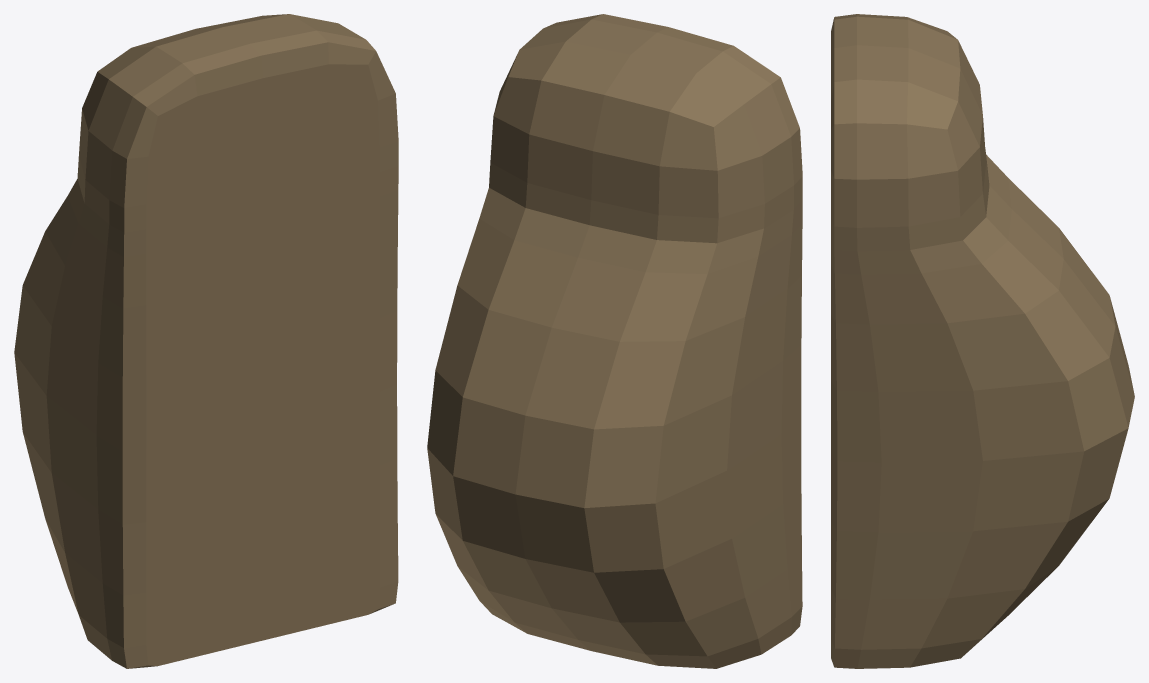
File: CarPartBody.fbx
3 renders of one model, left to right at view 1: azimuth 30°, elevation 25°; view 2: azimuth 150°, elevation 25°; view 3: azimuth 270°, elevation 25°, orthographic. The views are drawn at different scales.
Parts seen in each view (by area): view 1: Cube; view 2: Cube; view 3: Cube.
Part boxes in pixels (x1,y1,x2,y2): Cube: (14, 14, 398, 668); Cube: (427, 14, 802, 668); Cube: (831, 14, 1134, 668).
Size of the model in its own units: 200 by 400 by 196.
